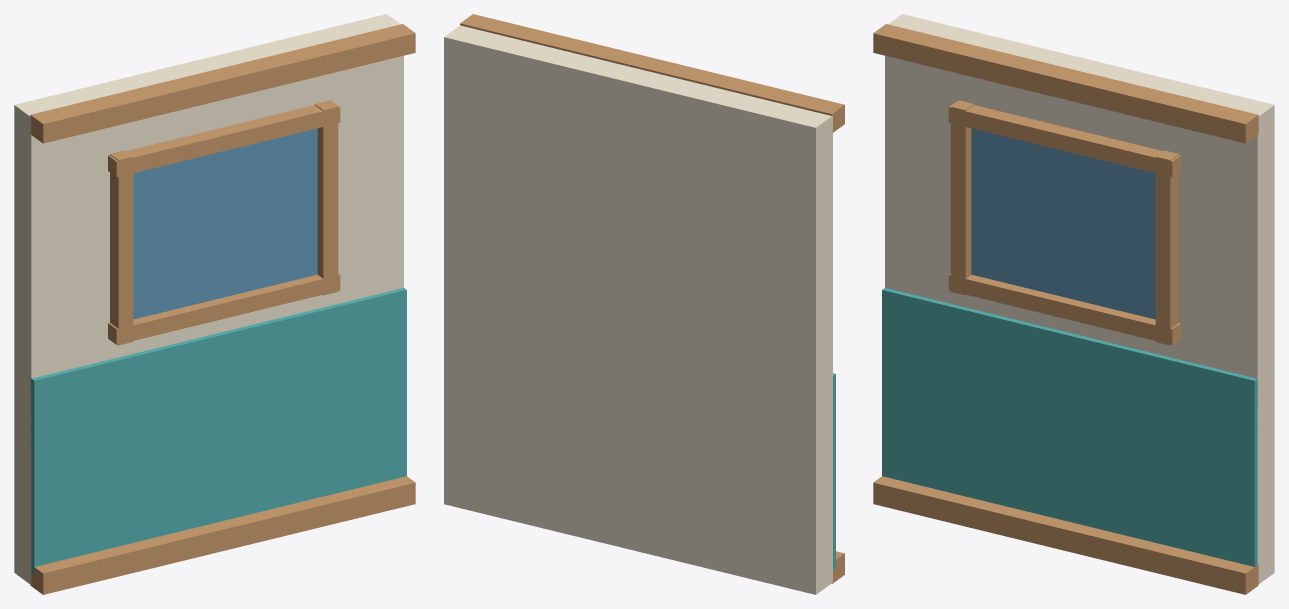
File: wall_window.glb
3 views of the same model, side by side, from view 1: azimuth 30°, elevation 25°; view 2: azimuth 150°, elevation 25°; view 3: azimuth 330°, elevation 25° (orthographic).
Visible parts, largest first — view 1: wall_window; view 2: wall_window; view 3: wall_window.
Boxes of the visible parts, <box> form: wall_window: <box>14,14,415,594</box>; wall_window: <box>444,14,844,594</box>; wall_window: <box>873,14,1274,594</box>.
Size of the model in its own units: 2 by 2.42 by 0.27.
